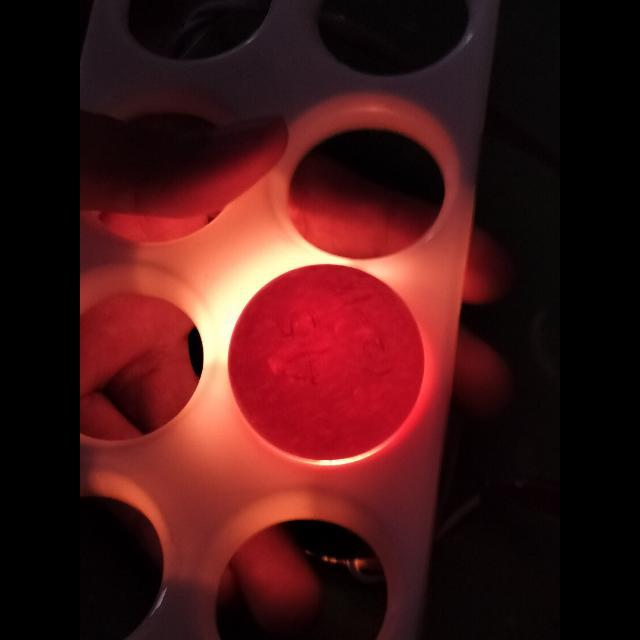Infertile: (226, 258, 424, 458)
